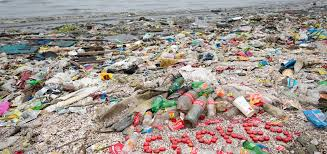Coca-Cola: (185, 92, 195, 103)
bottle: (182, 97, 196, 119), (156, 96, 172, 108), (31, 81, 38, 89)
plastic: (202, 95, 213, 113)
